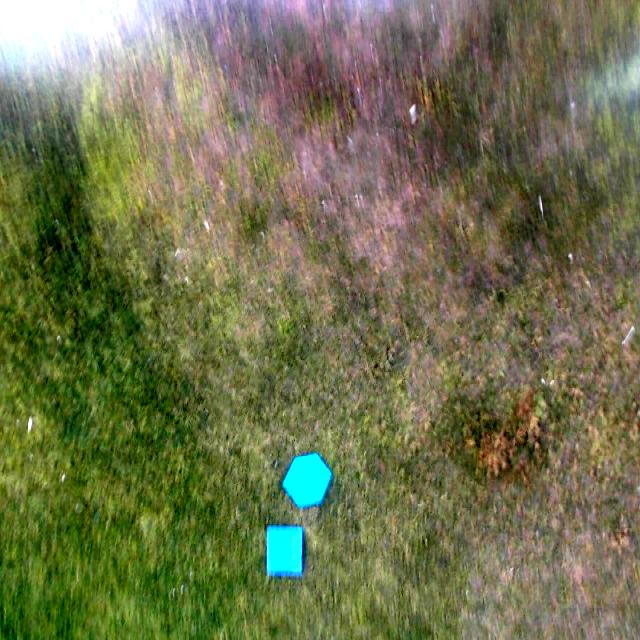blue_hexagon: (282, 453, 332, 508)
blue_square: (266, 526, 303, 574)
